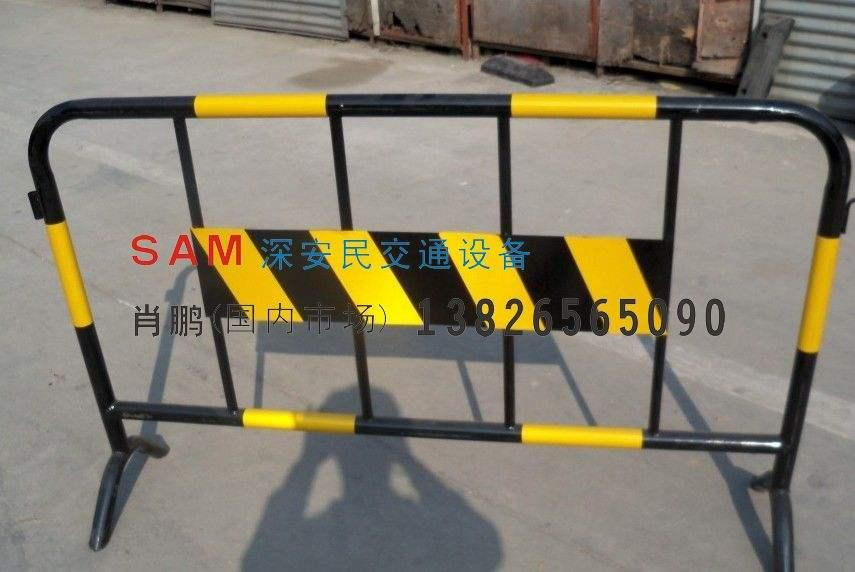sign: (15, 80, 855, 552)
